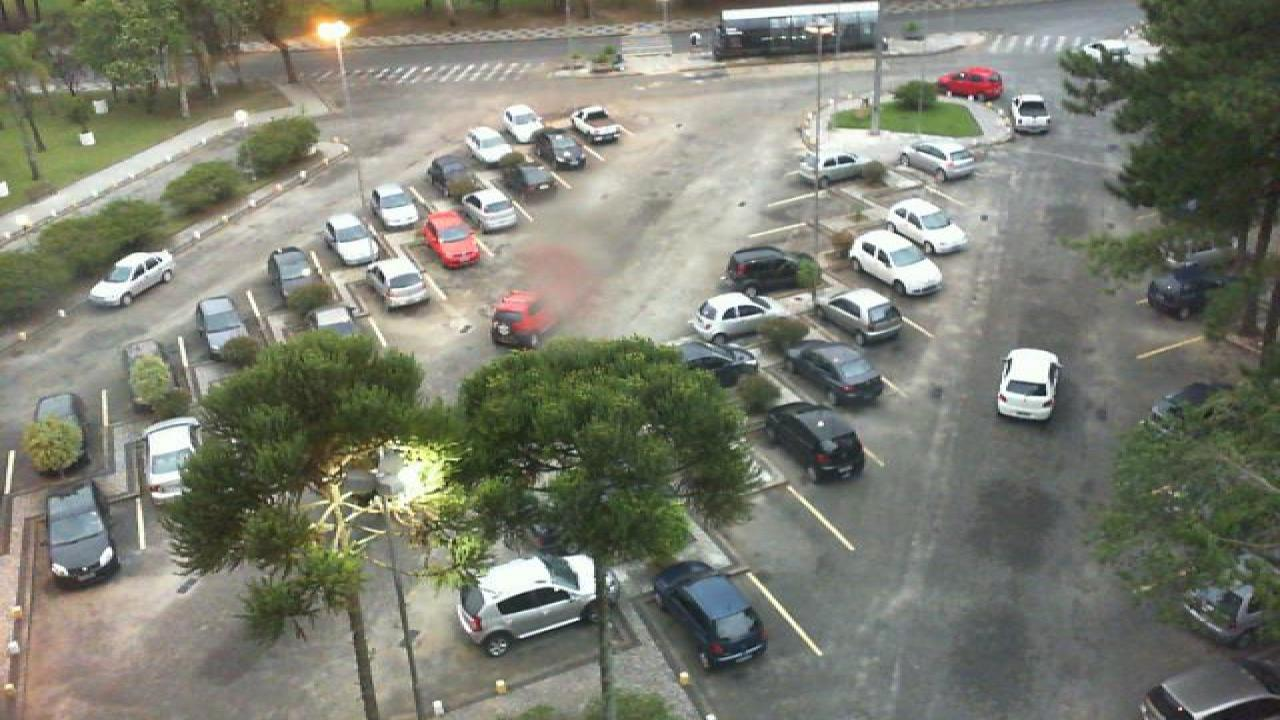Car: (454, 552, 610, 657), (650, 559, 772, 671), (766, 399, 870, 485), (42, 480, 122, 590), (1136, 661, 1280, 720), (786, 339, 888, 407), (844, 228, 944, 297), (1178, 575, 1270, 648), (138, 416, 208, 504), (688, 291, 786, 350), (810, 286, 904, 346), (880, 196, 970, 258), (86, 250, 178, 308), (674, 338, 764, 393), (996, 348, 1062, 422), (1144, 260, 1226, 319), (722, 245, 806, 295), (192, 297, 248, 368), (488, 290, 552, 352), (30, 393, 90, 458), (420, 209, 484, 269), (366, 253, 430, 309), (322, 214, 380, 269), (264, 246, 318, 305), (902, 142, 978, 183), (794, 151, 880, 187), (460, 187, 522, 234), (368, 182, 420, 233), (306, 304, 362, 348), (424, 154, 478, 199), (502, 150, 556, 195), (936, 68, 1006, 102), (1080, 38, 1154, 70), (462, 125, 516, 165), (568, 106, 622, 146), (540, 128, 588, 172), (1006, 92, 1054, 136), (502, 104, 550, 145)
